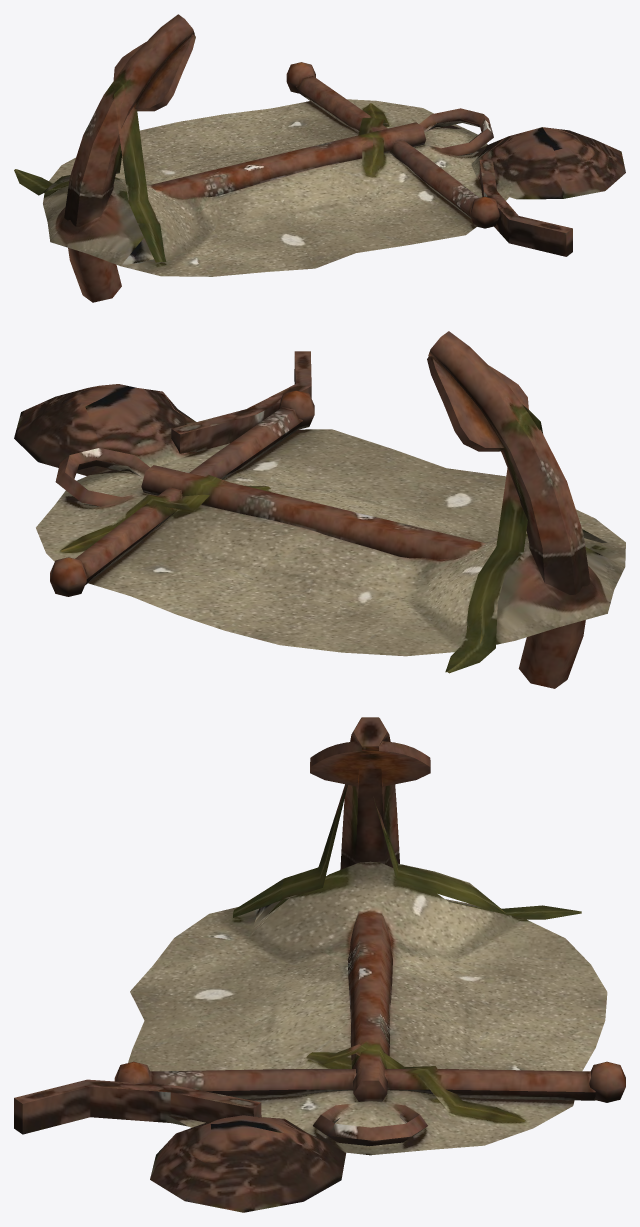
Rendered from drowned_anchor.glb.
3 renders of one model, top to bottom at view 1: azimuth 30°, elevation 25°; view 2: azimuth 150°, elevation 25°; view 3: azimuth 270°, elevation 25°, orthographic. The views are drawn at different scales.
Parts seen in each view (by area): view 1: drowned_anchor; view 2: drowned_anchor; view 3: drowned_anchor.
Part boxes in pixels (<box>): drowned_anchor: <box>14,14,625,302</box>; drowned_anchor: <box>14,331,625,688</box>; drowned_anchor: <box>14,717,625,1212</box>.
Size of the model in its own units: 2.76 by 1.31 by 2.17.
1 material, 1 textured.
